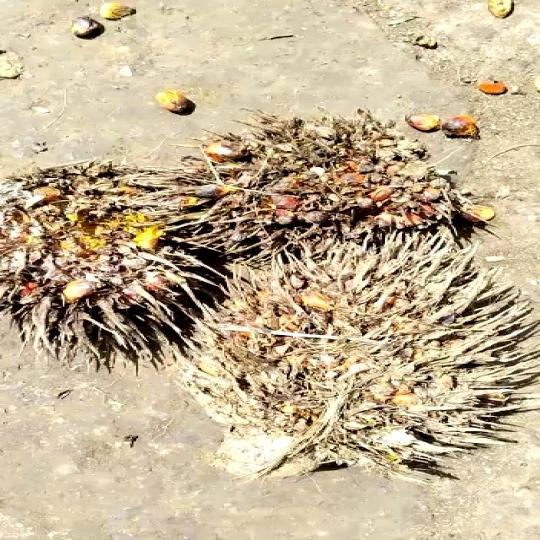terlalu masak: (203, 236, 540, 478), (165, 126, 465, 264)
